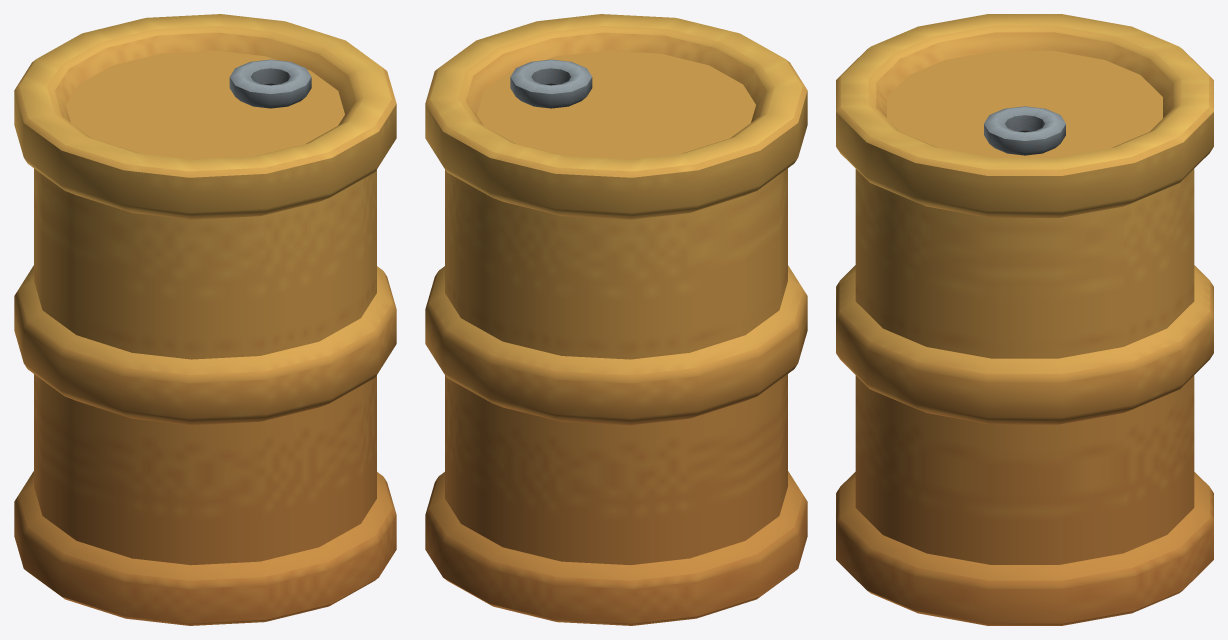
Rendered from Fuel_B_Barrel.gltf.
3 views of the same model, side by side, from view 1: azimuth 30°, elevation 25°; view 2: azimuth 150°, elevation 25°; view 3: azimuth 270°, elevation 25° (orthographic).
Visible parts, largest first — view 1: Fuel_B_Barrel; view 2: Fuel_B_Barrel; view 3: Fuel_B_Barrel.
Boxes of the visible parts, bbox=[...] form: Fuel_B_Barrel: bbox=[14, 14, 396, 625]; Fuel_B_Barrel: bbox=[425, 14, 807, 625]; Fuel_B_Barrel: bbox=[836, 14, 1213, 625].
Bounding box in the file's own units: 0.75 × 1.01 × 0.75.
1 material, 1 textured.
